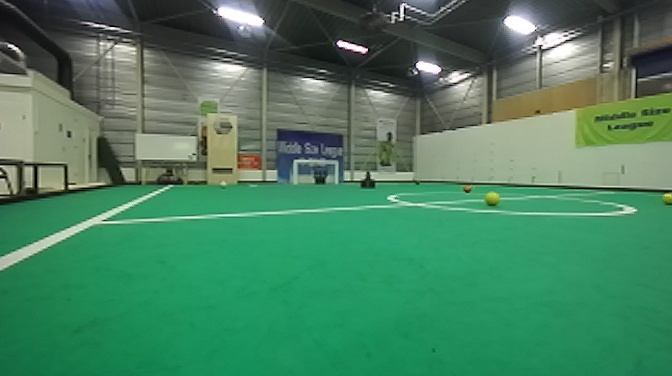ball: (484, 190, 502, 208), (662, 191, 672, 206), (461, 183, 472, 193)
goal: (287, 158, 341, 186)
robot: (358, 166, 378, 190)
